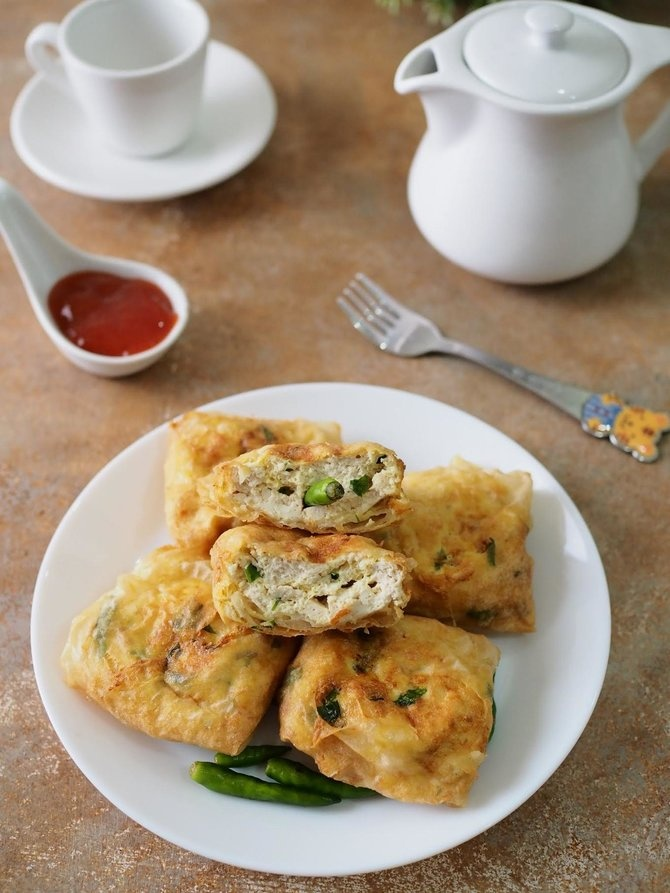martabak: (56, 409, 534, 813)
